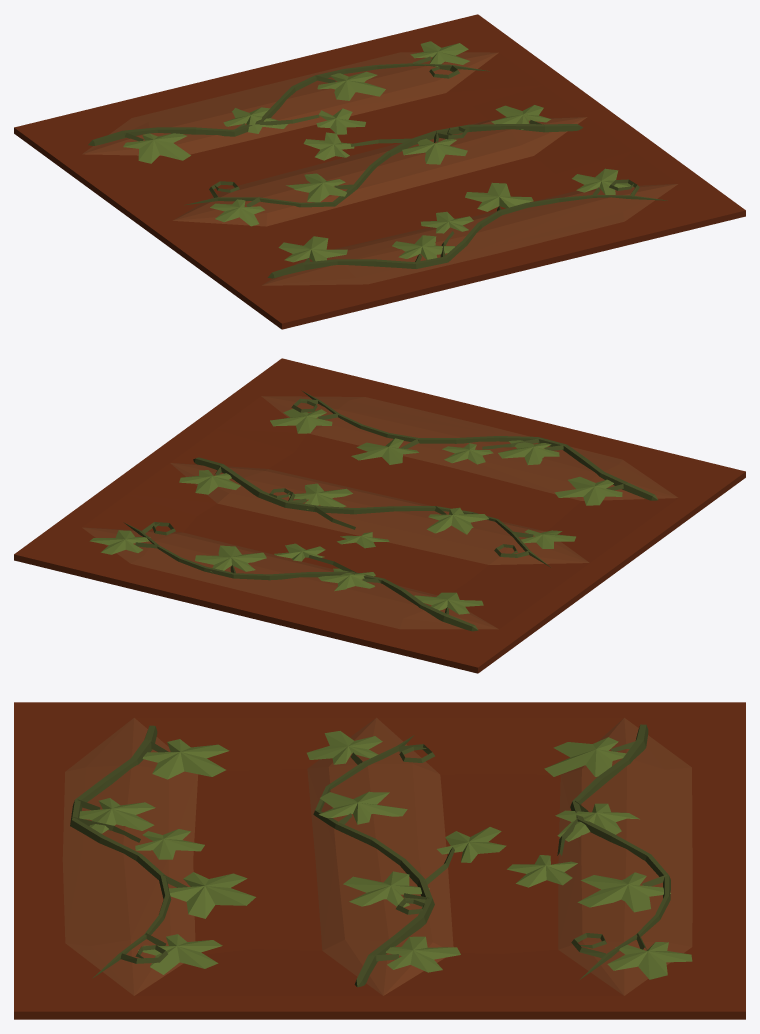
File: pumpkin-patch-tile-b5e5de.glb
The picture shows the model from 3 angles, top to bottom: view 1: azimuth 30°, elevation 25°; view 2: azimuth 150°, elevation 25°; view 3: azimuth 270°, elevation 25°; orthographic projection. The views are drawn at different scales.
Visible parts, largest first — view 1: pumpkin-patch-tile-mesh; view 2: pumpkin-patch-tile-mesh; view 3: pumpkin-patch-tile-mesh.
Boxes of the visible parts, left/top/right/bottom form: pumpkin-patch-tile-mesh: left=14, top=14, right=745, bottom=329; pumpkin-patch-tile-mesh: left=14, top=358, right=745, bottom=673; pumpkin-patch-tile-mesh: left=14, top=702, right=745, bottom=1019.
Bounding box in the file's own units: 4 × 0.116 × 4.
